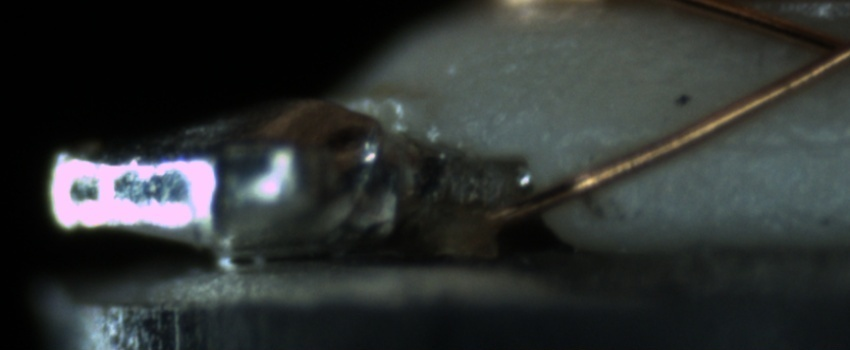CL: (793, 20, 849, 80)
DL: (694, 112, 847, 176)
